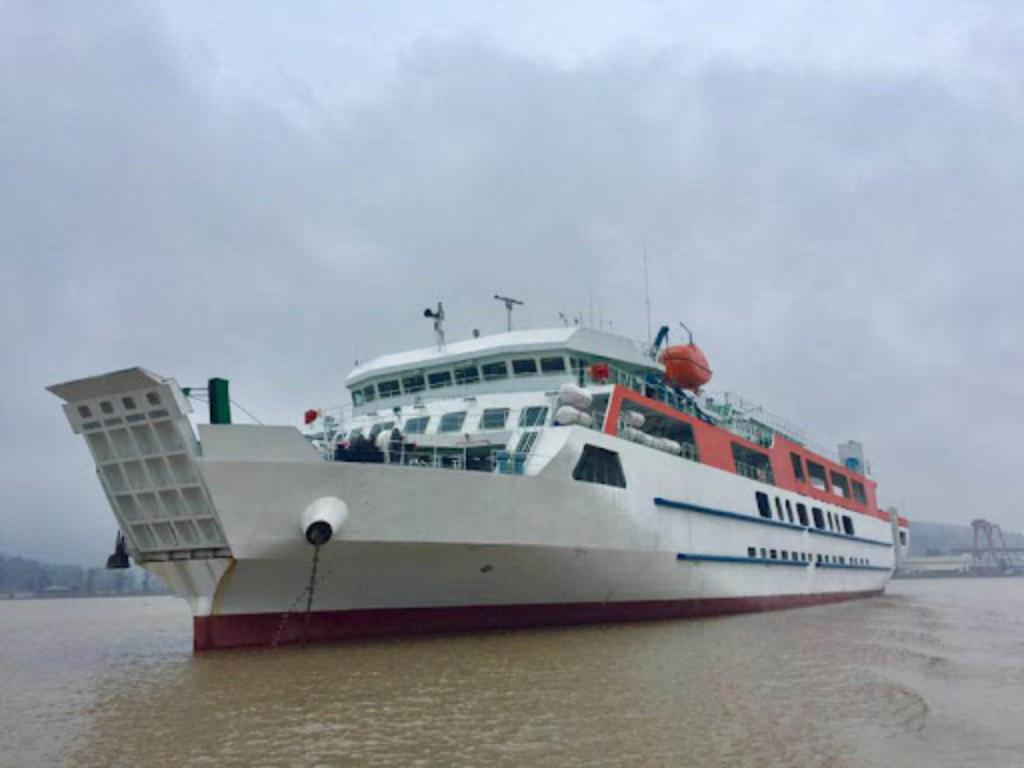PassengerShip: (34, 284, 928, 658)
